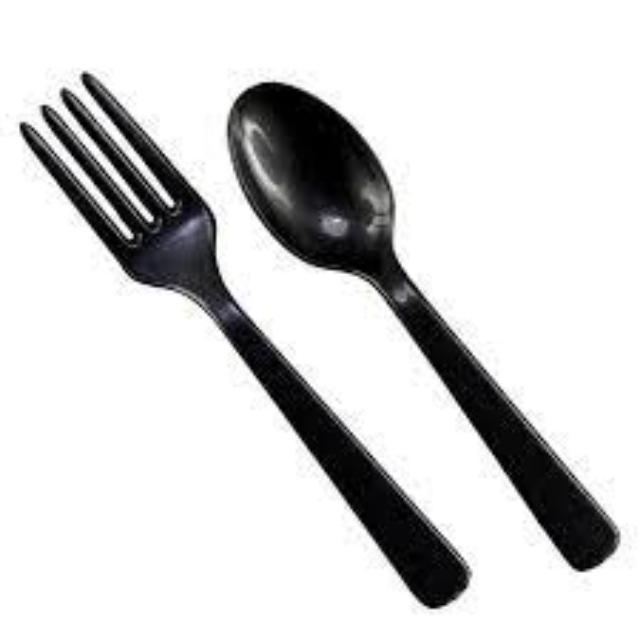Plastico descartable: (20, 74, 469, 607), (228, 82, 616, 569)
